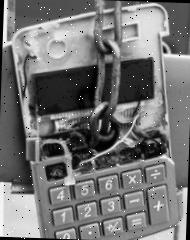electronic: (1, 0, 190, 240)
